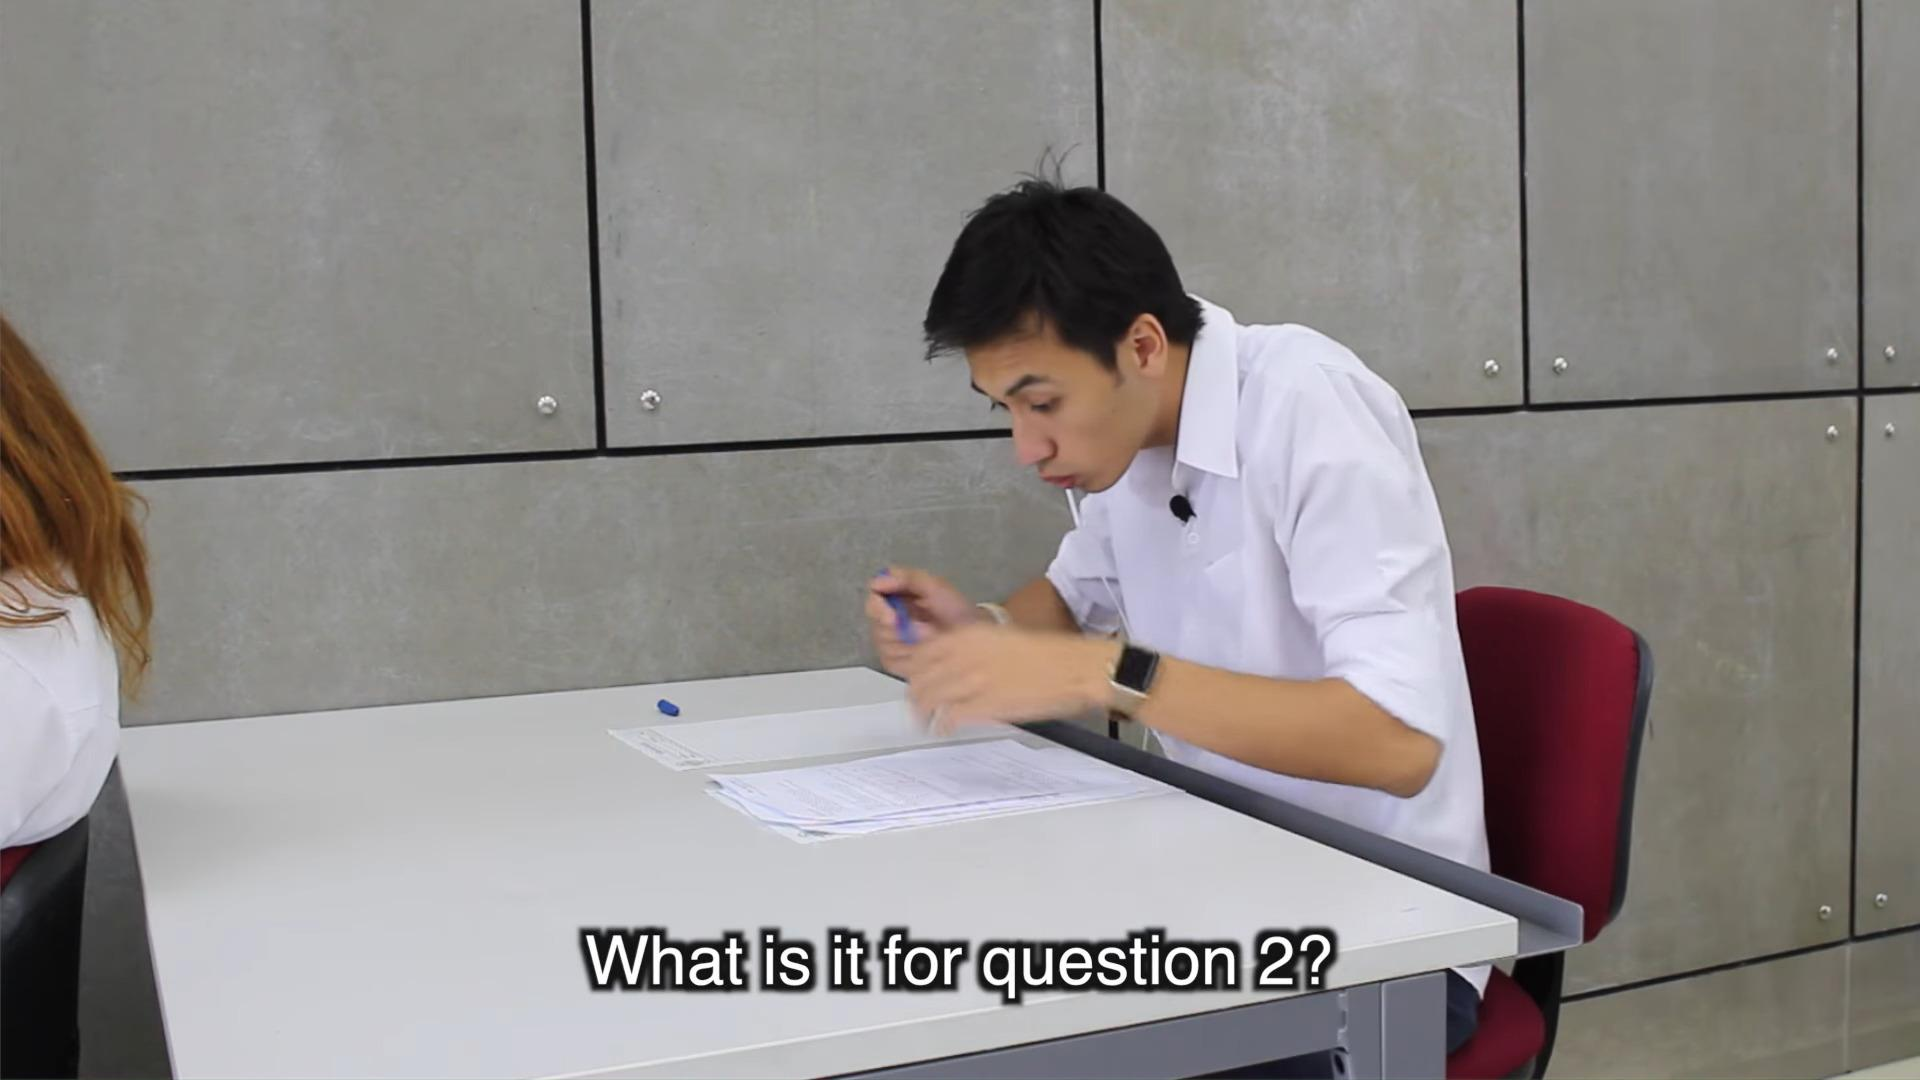good: (625, 138, 1531, 890)
